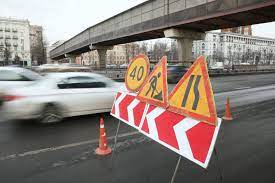1.18.5: (167, 53, 220, 126)
1.23: (137, 57, 166, 108)
